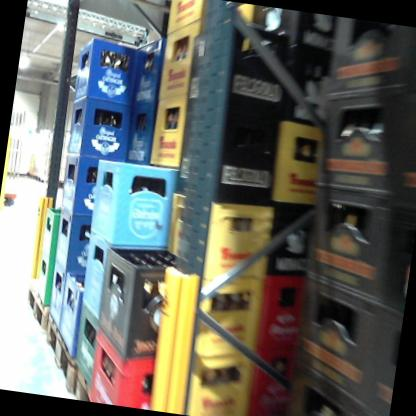pallet: (38, 311, 83, 395), (19, 279, 56, 332), (82, 0, 181, 18), (71, 362, 113, 403)
